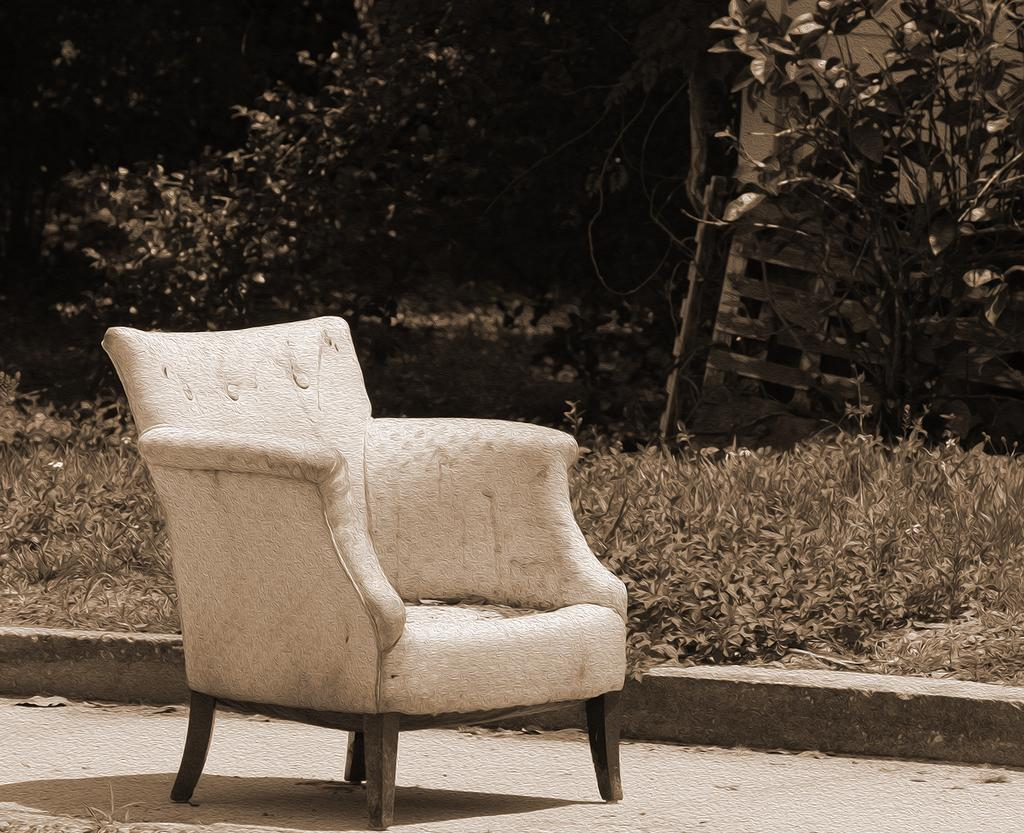Chair: (92, 325, 639, 833)
